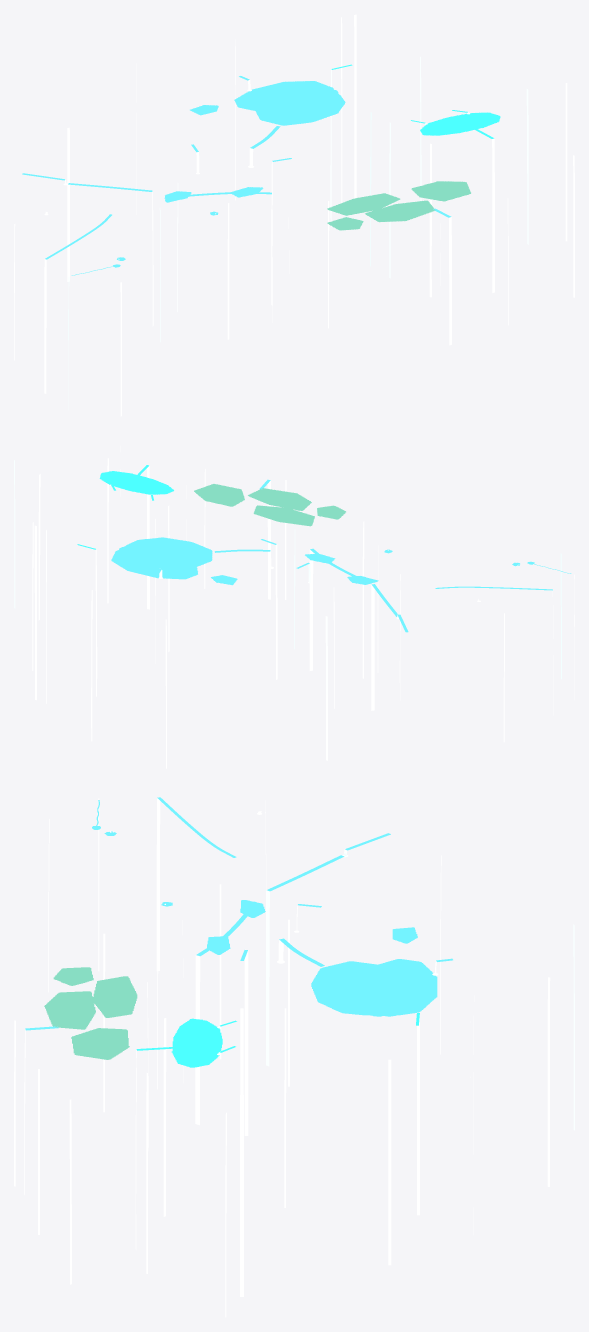
File: Floor1_Water.fbx
The picture shows the model from 3 angles, top to bottom: view 1: azimuth 30°, elevation 25°; view 2: azimuth 150°, elevation 25°; view 3: azimuth 270°, elevation 25°; orthographic projection. The views are drawn at different scales.
Visible parts, largest first — view 1: no part large enough to name; view 2: F1_Lakes__F1_Water_Swamp_7; view 3: F1_Lakes__F1_Water_Swamp_7, F1_Lakes__F1_Water_Swamp_6, F1_Lakes__F1_Water_Swamp_2, F1_Lakes__F1_Water_Swamp_8, F1_Lakes__F1_Water_22.
Boxes of the visible parts, box(x1,y1,x2,y2) form: F1_Lakes__F1_Water_Swamp_7: box(211, 487, 244, 506); F1_Lakes__F1_Water_Swamp_7: box(71, 1028, 128, 1043); F1_Lakes__F1_Water_Swamp_6: box(46, 1011, 106, 1029); F1_Lakes__F1_Water_Swamp_2: box(57, 976, 136, 994); F1_Lakes__F1_Water_Swamp_8: box(73, 1044, 129, 1059); F1_Lakes__F1_Water_22: box(343, 1002, 430, 1016).
Size of the model in its own units: 1649414 by 533530 by 1126158.
